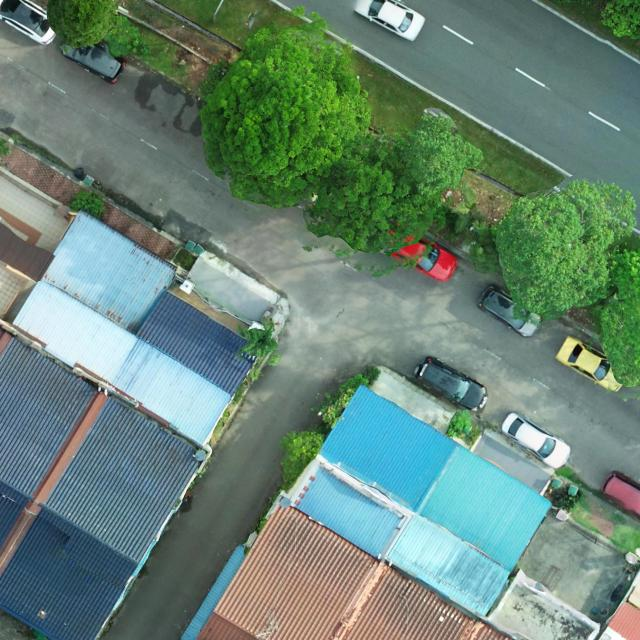Tree: (196, 5, 372, 210), (302, 114, 486, 254), (495, 178, 638, 325), (598, 224, 640, 395), (46, 0, 121, 50), (280, 430, 326, 486), (601, 0, 640, 54), (69, 190, 106, 220)
